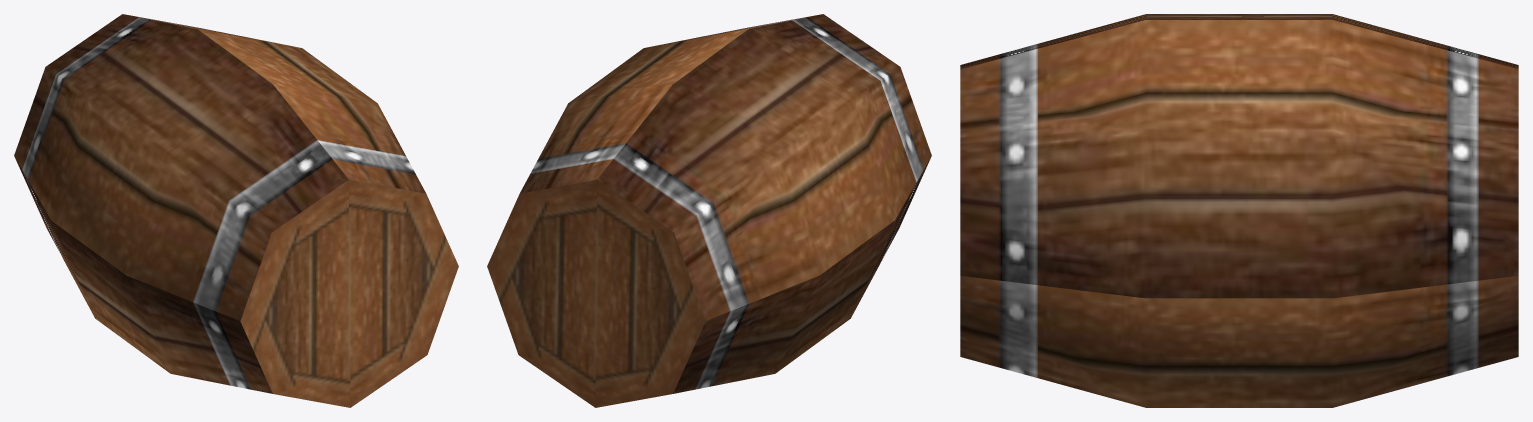
File: indan_5.FBX
The picture shows the model from 3 angles, left to right: view 1: azimuth 30°, elevation 25°; view 2: azimuth 150°, elevation 25°; view 3: azimuth 270°, elevation 25°; orthographic projection. The views are drawn at different scales.
Parts seen in each view (by area): view 1: Box01; view 2: Box01; view 3: Box01.
Boxes of the visible parts, box(x1,y1,x2,y2) form: Box01: box(14, 14, 458, 407); Box01: box(487, 14, 931, 407); Box01: box(960, 14, 1518, 407).
Bounding box in the file's own units: 0.0302 × 0.0302 × 0.0401.
1 material, 1 textured.
